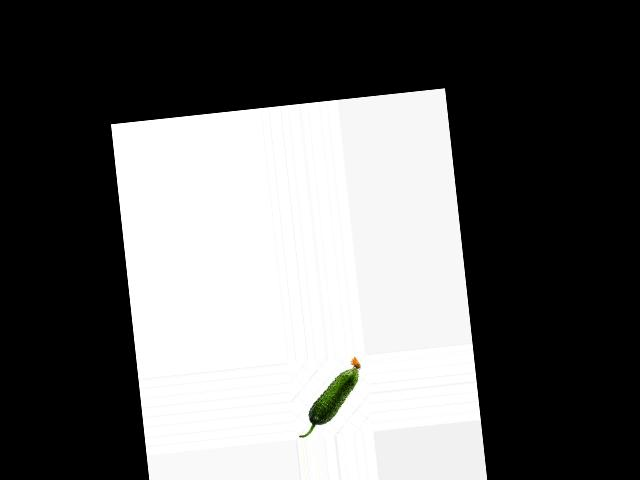cucumber: (291, 355, 367, 437)
